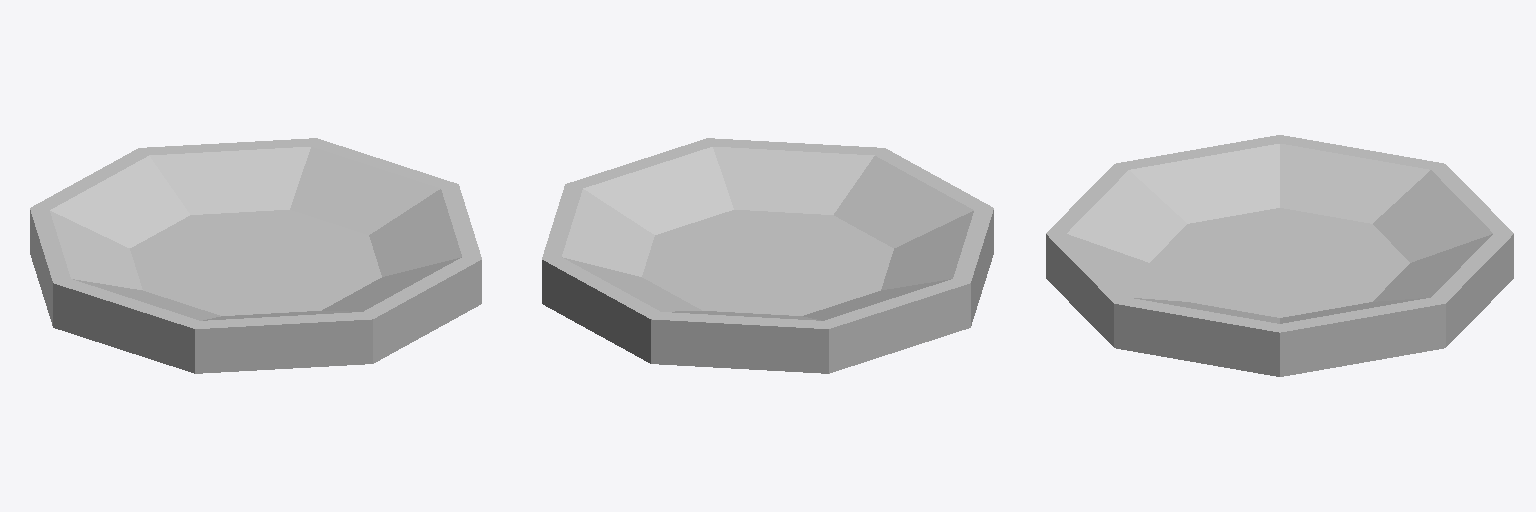
File: potBase.obj
The picture shows the model from 3 angles: view 1: azimuth 30°, elevation 25°; view 2: azimuth 150°, elevation 25°; view 3: azimuth 270°, elevation 25°; orthographic projection.
Visible parts, largest first — view 1: pCylinder2; view 2: pCylinder2; view 3: pCylinder2.
Boxes of the visible parts, box(x1,y1,x2,y2) form: pCylinder2: box(30, 138, 481, 373); pCylinder2: box(542, 138, 993, 373); pCylinder2: box(1046, 135, 1513, 376).
Bounding box in the file's own units: 2 × 0.21 × 2.